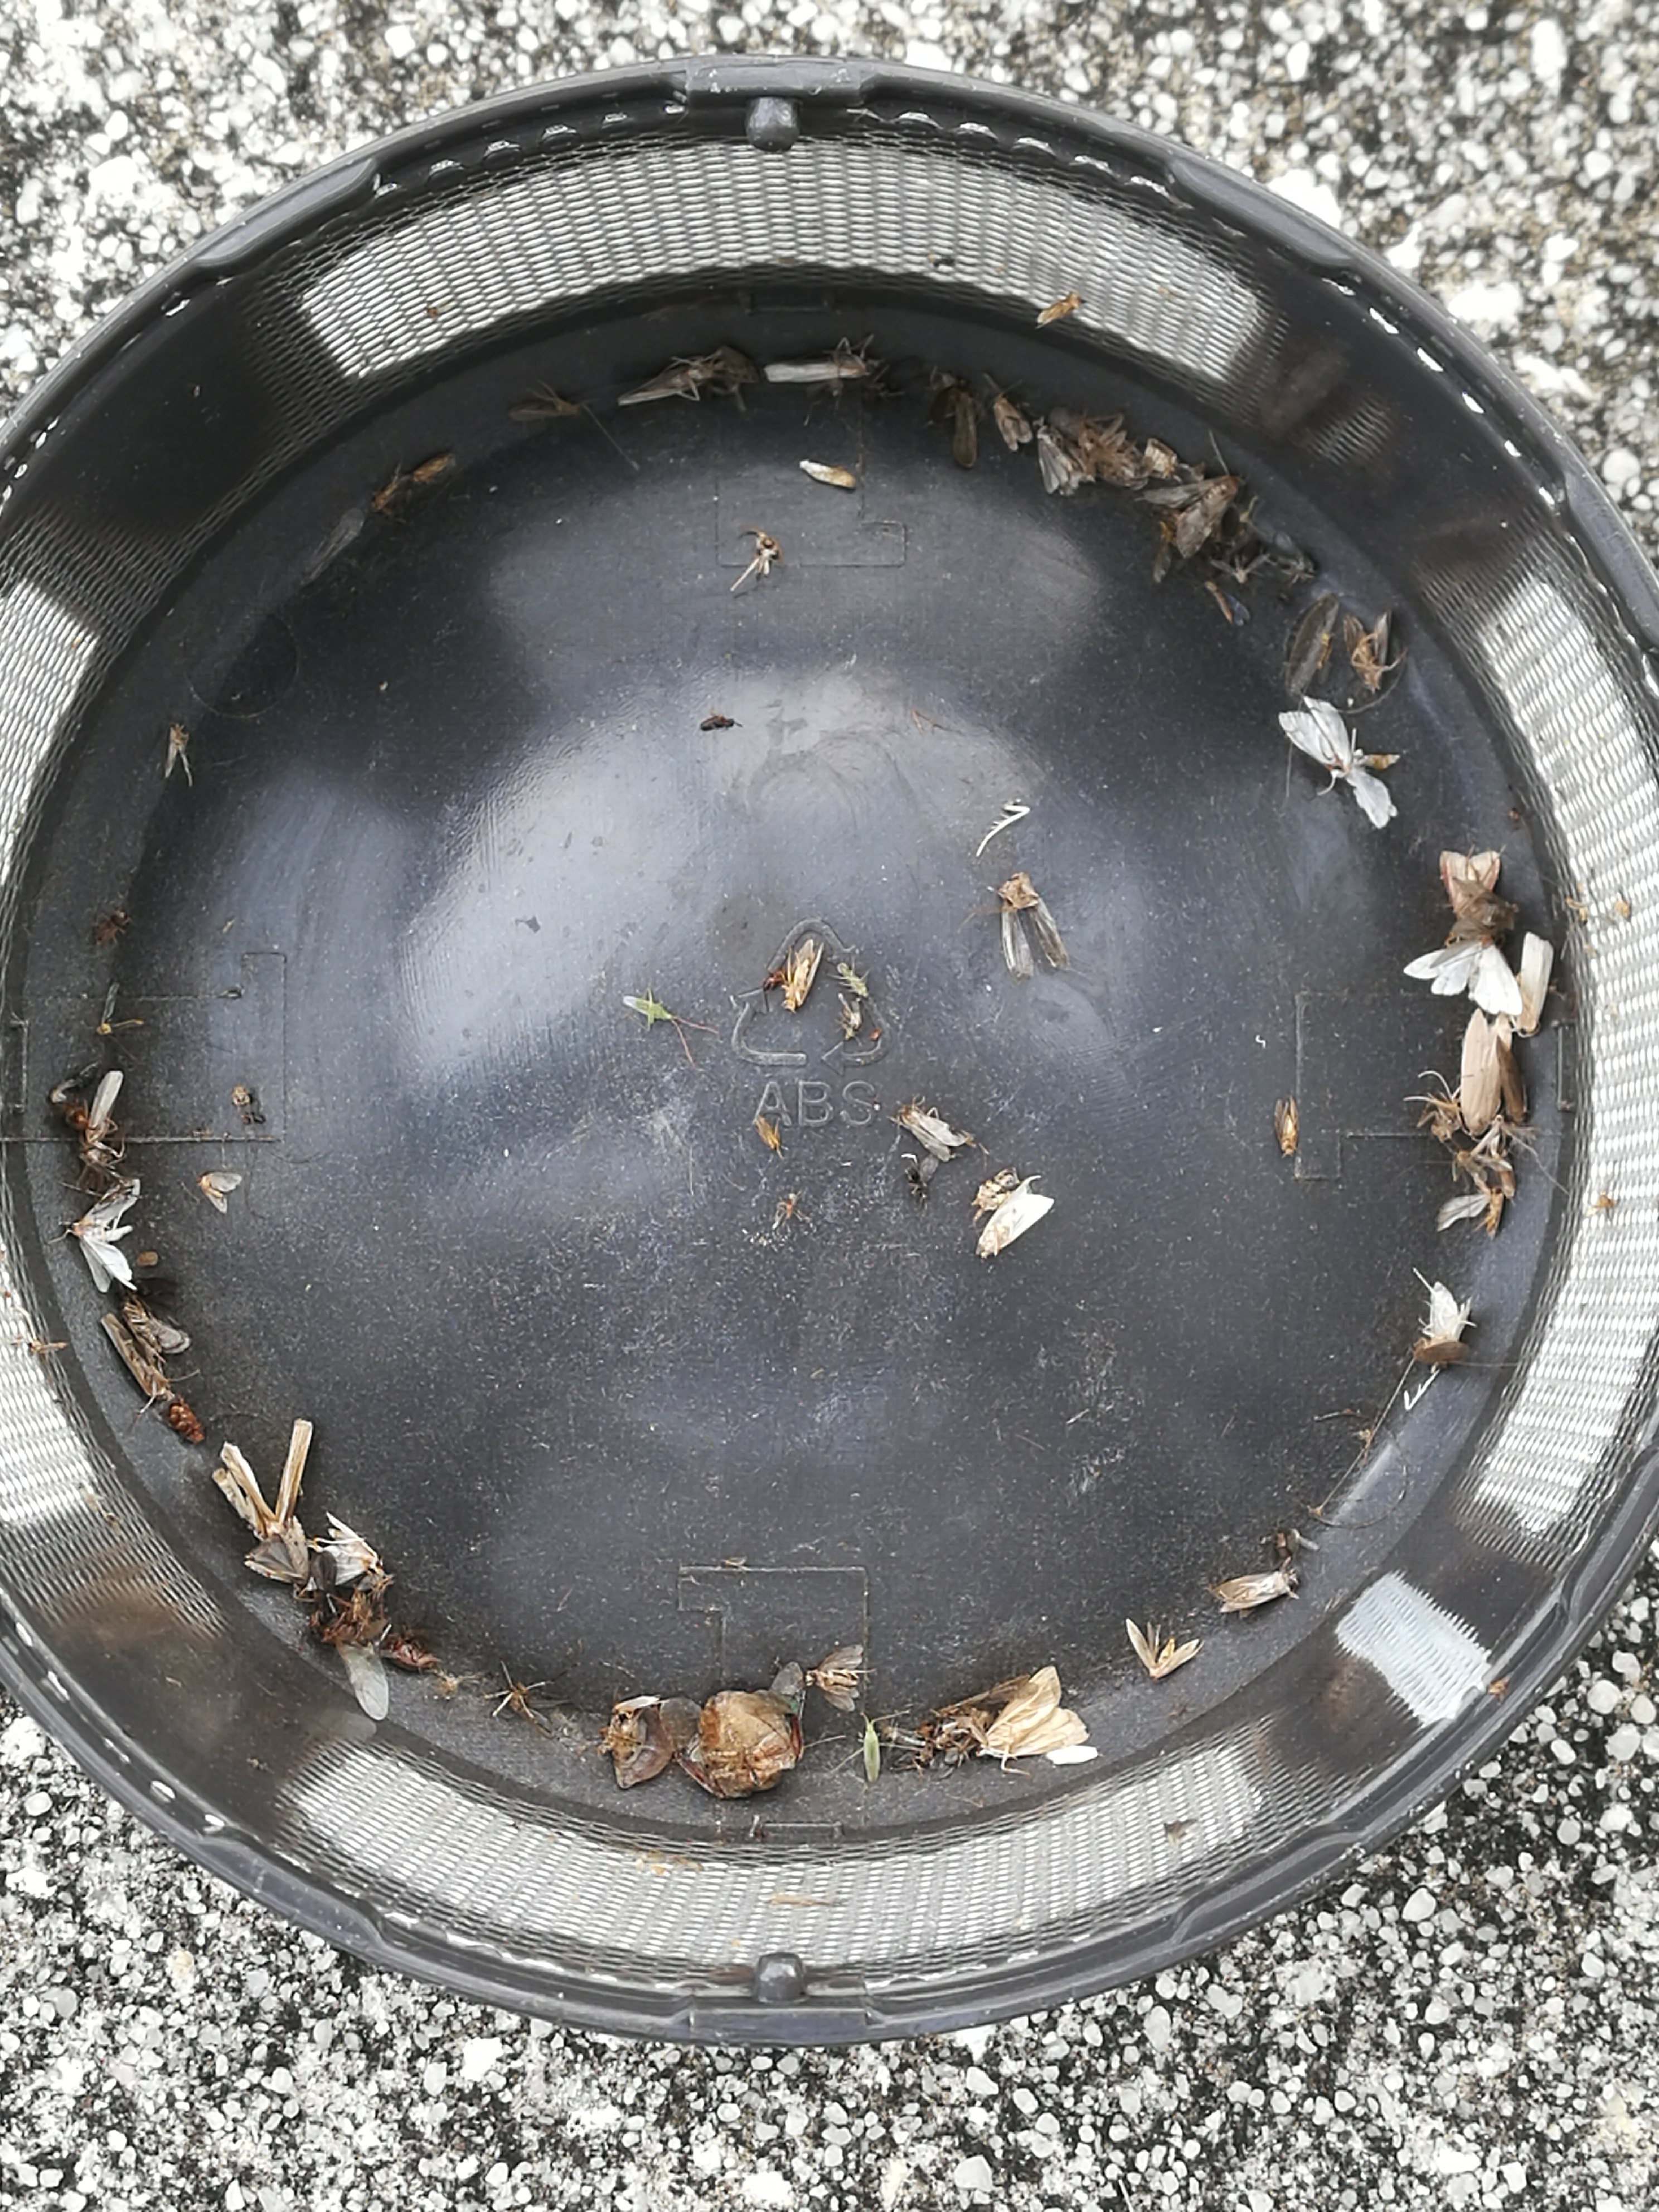beetle: (699, 1691, 793, 1796)
mosquito: (1462, 1010, 1509, 1136), (103, 1312, 167, 1395), (617, 362, 711, 406), (1213, 1571, 1300, 1613), (1497, 1038, 1527, 1123), (765, 357, 868, 381), (87, 1071, 122, 1141), (511, 399, 580, 420), (1274, 1097, 1298, 1157), (1488, 1188, 1506, 1238)
moth: (1279, 697, 1401, 829), (979, 1667, 1089, 1757), (1403, 934, 1521, 1015), (1145, 475, 1241, 559), (75, 1179, 141, 1291), (978, 1193, 1054, 1256), (1037, 420, 1096, 495), (1441, 850, 1500, 925), (244, 1519, 308, 1585), (1126, 1618, 1199, 1676), (901, 1106, 971, 1162), (1345, 611, 1392, 693), (803, 1646, 863, 1709), (329, 1515, 380, 1587), (125, 1305, 188, 1359), (782, 941, 823, 1010)
